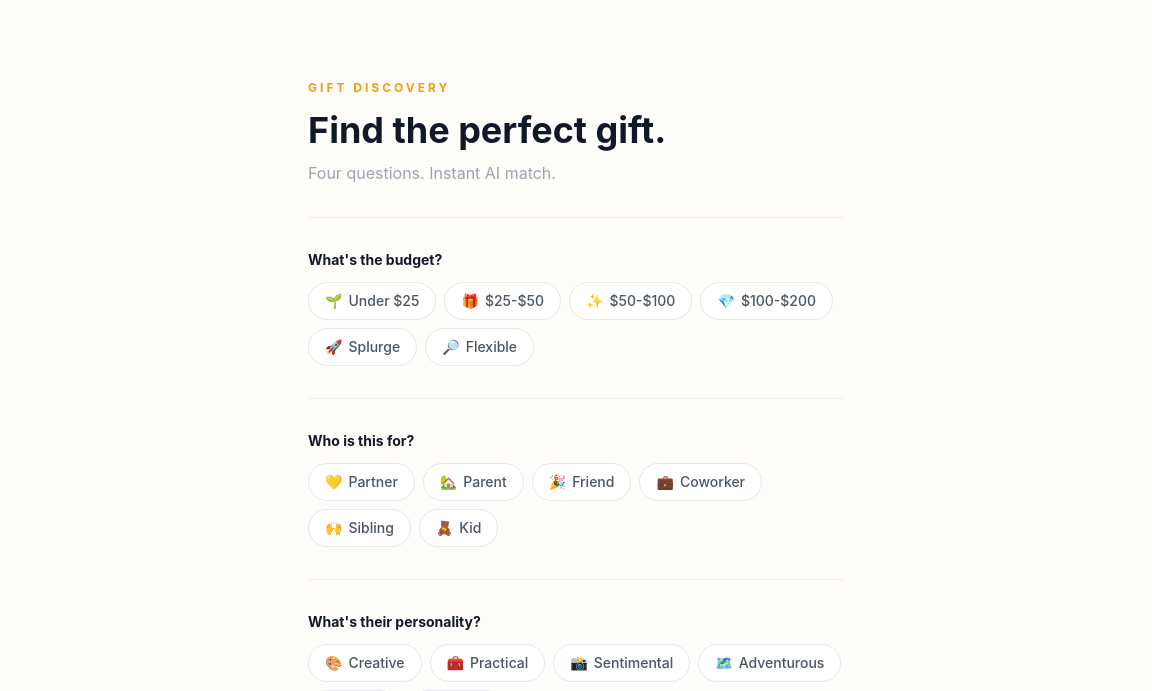
Test: QuizPage › submit is disabled until Q1-Q3 are answered
This screenshot has width=1152, height=691.
Click the button "🎁 $25-$50": (503,301) top-left (444, 282), bottom-right (561, 320)
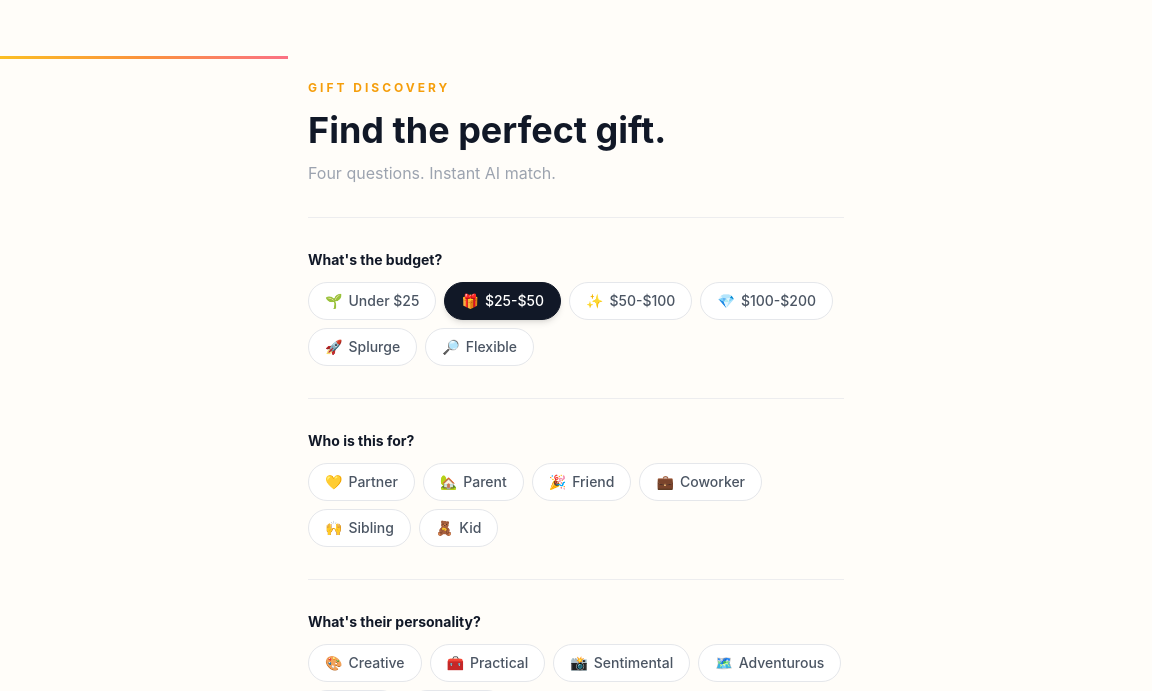
Click the button "🎉 Friend": (582,482) top-left (532, 463), bottom-right (631, 501)
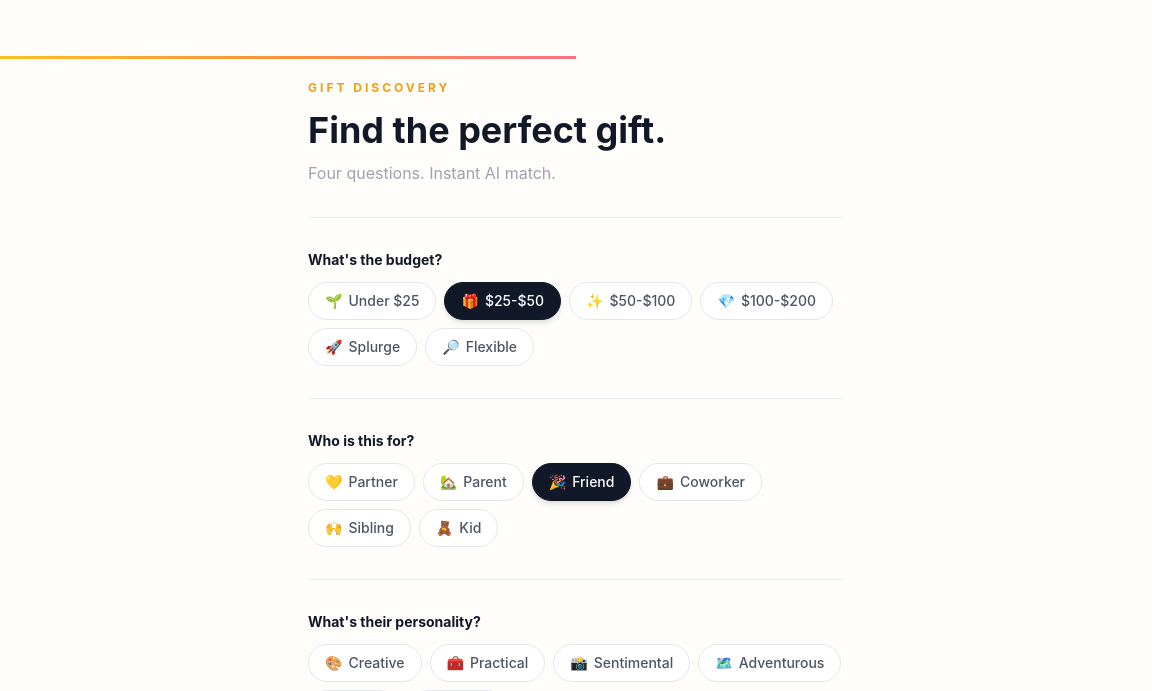
Click the button "🎨 Creative": (365,663) top-left (308, 644), bottom-right (422, 682)
(page scrolled)
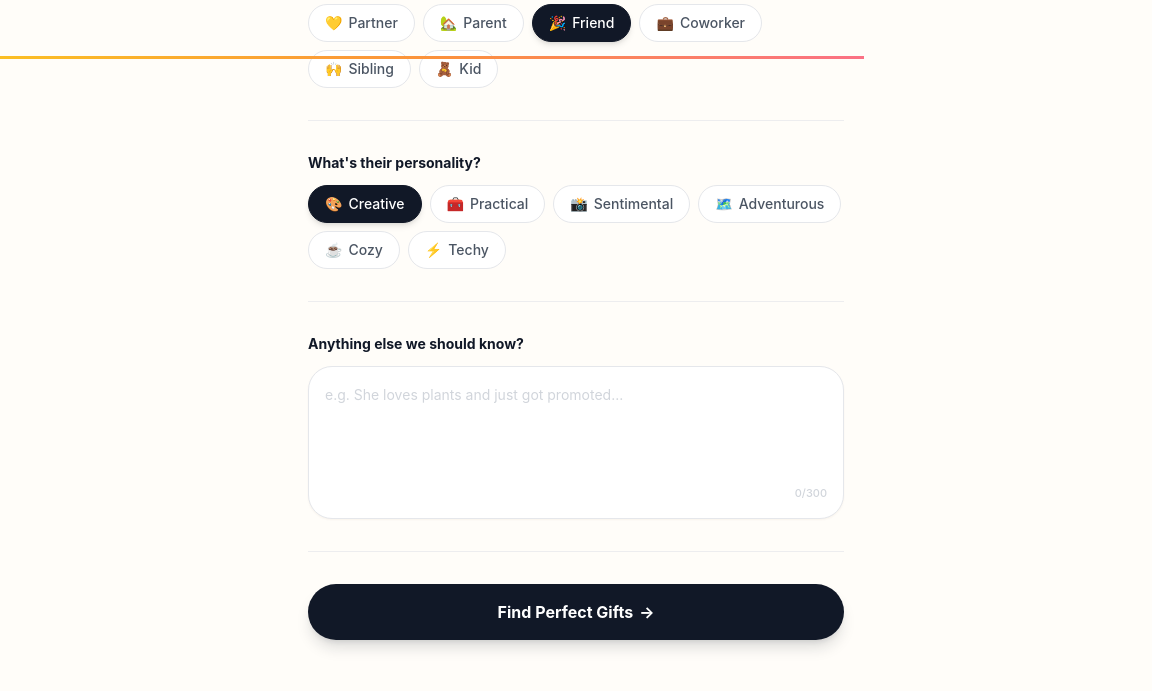
expect the button "Find Perfect Gifts →" is enabled: met, box top-left (308, 584), bottom-right (844, 640)
